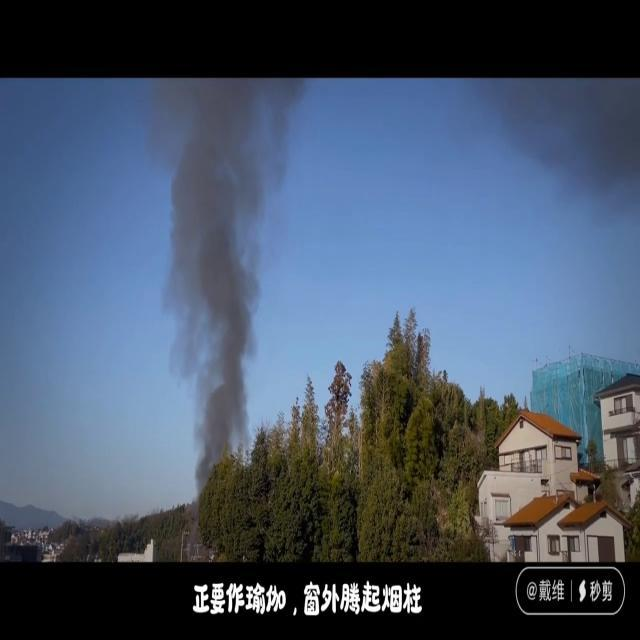Smoke: (152, 78, 288, 454)
